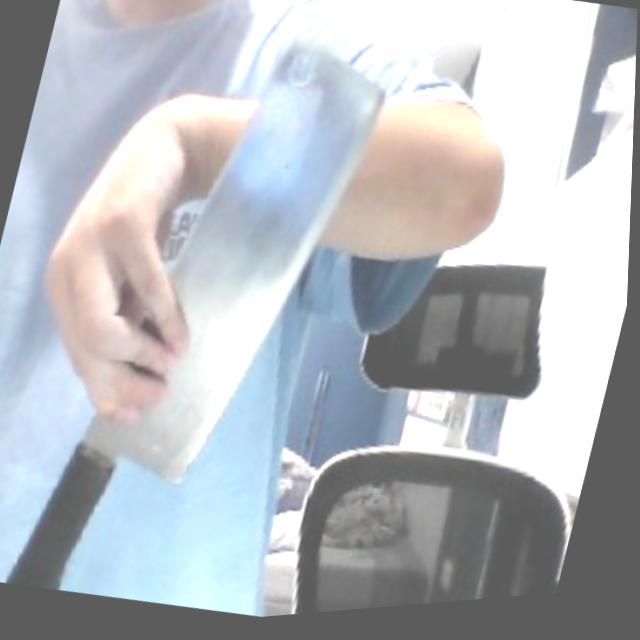Knife: (7, 30, 382, 589)
